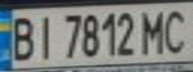1: (100, 9, 121, 57)
2: (115, 8, 139, 56)
7: (57, 10, 81, 60)
8: (78, 9, 103, 58)
B: (3, 12, 39, 62)
C: (160, 4, 193, 54)
I: (30, 11, 57, 61)
M: (139, 7, 172, 55)
